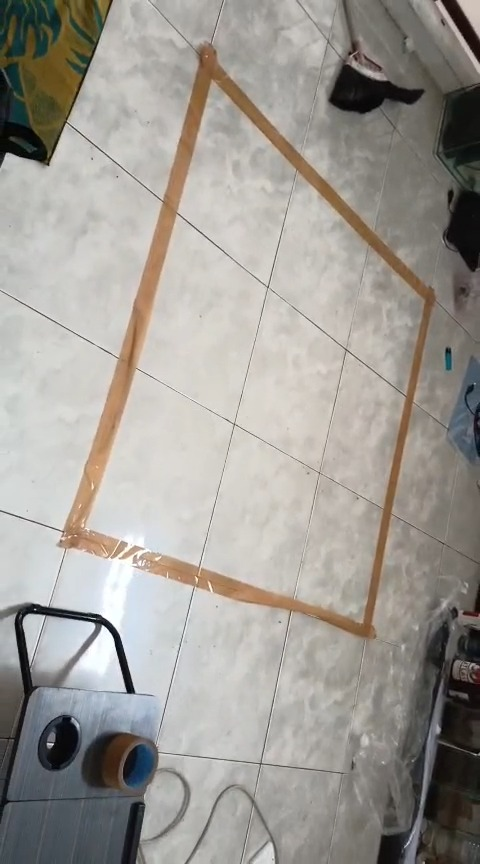floor marking: (60, 43, 433, 635)
